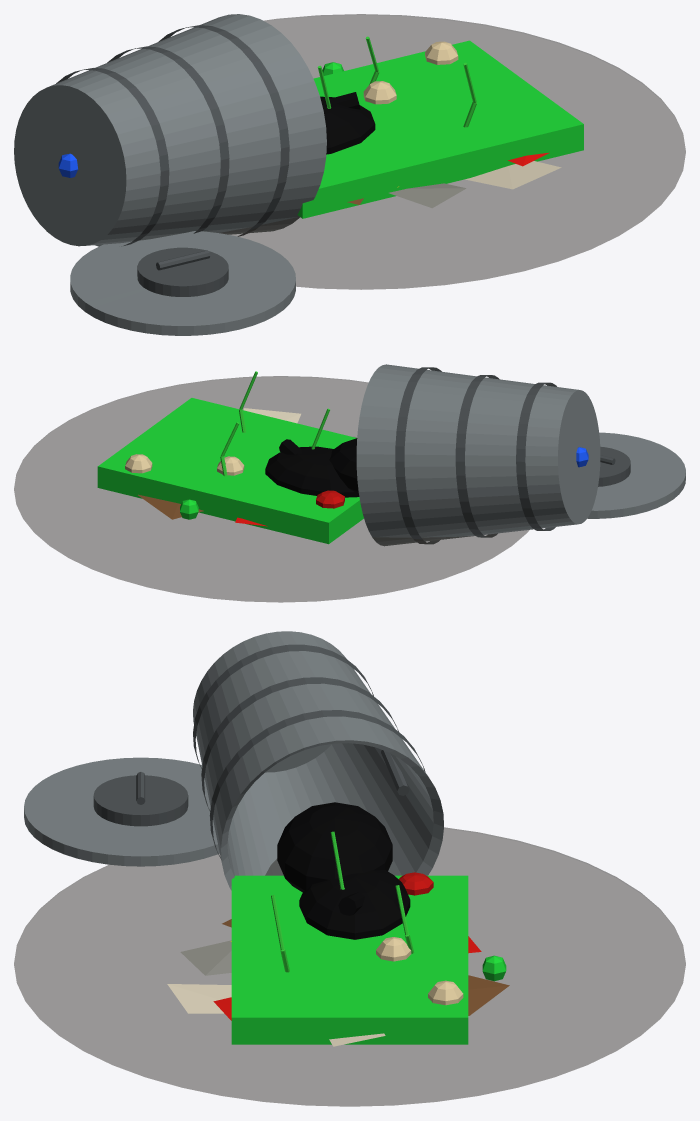
The model's file is tipped_over_trash_can_spill_corrected_open_end.obj.
The picture shows the model from 3 angles, top to bottom: view 1: azimuth 30°, elevation 25°; view 2: azimuth 150°, elevation 25°; view 3: azimuth 270°, elevation 25°; orthographic projection. The views are drawn at different scales.
Visible parts, largest first — view 1: Subtle_dirty_spill_shadow_patch, Tipped_open_trash_can_body_hollow_OPEN_END_FACES_SPILL, Guide_Scent_Source_Spill_Area, Loose_trash_can_lid_disk, Loose_lid_raised_center_cap, Trash_can_raised_rib_band_3, Black_garbage_bag_spilled_lump_from_open_end, Trash_can_raised_rib_band_2, Trash_can_raised_rib_band_1, Crumpled_paper_scrap_spilling_from_open_end_10, Crumpled_paper_scrap_spilling_from_open_end_08, Discarded_cartoon_bone_near_front_of_spill_left_knob_a (+2 smaller); view 2: Subtle_dirty_spill_shadow_patch, Tipped_open_trash_can_body_hollow_OPEN_END_FACES_SPILL, Guide_Scent_Source_Spill_Area, Loose_trash_can_lid_disk, Black_garbage_bag_spilled_lump_from_open_end, Trash_can_raised_rib_band_3, Trash_can_raised_rib_band_2, Trash_can_raised_rib_band_1, Black_garbage_bag_plug_visible_at_open_mouth, Loose_lid_raised_center_cap, Crumpled_paper_scrap_spilling_from_open_end_05, Half_eaten_apple_core_top_red (+3 smaller); view 3: Subtle_dirty_spill_shadow_patch, Tipped_open_trash_can_body_hollow_OPEN_END_FACES_SPILL, Guide_Scent_Source_Spill_Area, Loose_trash_can_lid_disk, Black_garbage_bag_plug_visible_at_open_mouth, Black_garbage_bag_spilled_lump_from_open_end, Loose_lid_raised_center_cap, Trash_can_raised_rib_band_3, Trash_can_raised_rib_band_2, Trash_can_raised_rib_band_1, Crumpled_paper_scrap_spilling_from_open_end_10, Crumpled_paper_scrap_spilling_from_open_end_08 (+1 smaller).
Boxes of the visible parts, left/top/right/bottom form: Subtle_dirty_spill_shadow_patch: left=220, top=14, right=685, bottom=289; Tipped_open_trash_can_body_hollow_OPEN_END_FACES_SPILL: left=14, top=14, right=326, bottom=246; Guide_Scent_Source_Spill_Area: left=297, top=40, right=583, bottom=218; Loose_trash_can_lid_disk: left=70, top=231, right=295, bottom=335; Loose_lid_raised_center_cap: left=137, top=247, right=228, bottom=296; Trash_can_raised_rib_band_3: left=158, top=25, right=289, bottom=236; Black_garbage_bag_spilled_lump_from_open_end: left=320, top=96, right=375, bottom=154; Trash_can_raised_rib_band_2: left=107, top=46, right=229, bottom=233; Trash_can_raised_rib_band_1: left=56, top=68, right=169, bottom=246; Crumpled_paper_scrap_spilling_from_open_end_10: left=465, top=161, right=561, bottom=189; Crumpled_paper_scrap_spilling_from_open_end_08: left=389, top=183, right=466, bottom=208; Discarded_cartoon_bone_near_front_of_spill_left_knob_a: left=363, top=81, right=396, bottom=104; Subtle_dirty_spill_shadow_patch: left=14, top=376, right=529, bottom=602; Tipped_open_trash_can_body_hollow_OPEN_END_FACES_SPILL: left=356, top=364, right=600, bottom=546; Guide_Scent_Source_Spill_Area: left=97, top=398, right=363, bottom=544; Loose_trash_can_lid_disk: left=587, top=432, right=685, bottom=518; Black_garbage_bag_spilled_lump_from_open_end: left=265, top=446, right=359, bottom=497; Trash_can_raised_rib_band_3: left=395, top=367, right=441, bottom=544; Trash_can_raised_rib_band_2: left=455, top=375, right=499, bottom=537; Trash_can_raised_rib_band_1: left=516, top=382, right=556, bottom=530; Black_garbage_bag_plug_visible_at_open_mouth: left=329, top=438, right=358, bottom=494; Loose_lid_raised_center_cap: left=598, top=446, right=630, bottom=486; Crumpled_paper_scrap_spilling_from_open_end_05: left=138, top=494, right=203, bottom=519; Half_eaten_apple_core_top_red: left=316, top=490, right=344, bottom=508; Subtle_dirty_spill_shadow_patch: left=14, top=827, right=685, bottom=1106; Tipped_open_trash_can_body_hollow_OPEN_END_FACES_SPILL: left=193, top=631, right=443, bottom=890; Guide_Scent_Source_Spill_Area: left=231, top=875, right=468, bottom=1044; Loose_trash_can_lid_disk: left=24, top=757, right=219, bottom=866; Black_garbage_bag_plug_visible_at_open_mouth: left=277, top=802, right=392, bottom=892; Black_garbage_bag_spilled_lump_from_open_end: left=299, top=870, right=410, bottom=939; Loose_lid_raised_center_cap: left=93, top=775, right=188, bottom=826; Trash_can_raised_rib_band_3: left=209, top=710, right=425, bottom=858; Trash_can_raised_rib_band_2: left=201, top=677, right=398, bottom=811; Trash_can_raised_rib_band_1: left=193, top=644, right=373, bottom=768; Crumpled_paper_scrap_spilling_from_open_end_10: left=167, top=984, right=231, bottom=1013; Crumpled_paper_scrap_spilling_from_open_end_08: left=180, top=940, right=231, bottom=975.
Size of what is drawn, in the model's own units: 3.16 by 0.9397 by 2.7.
